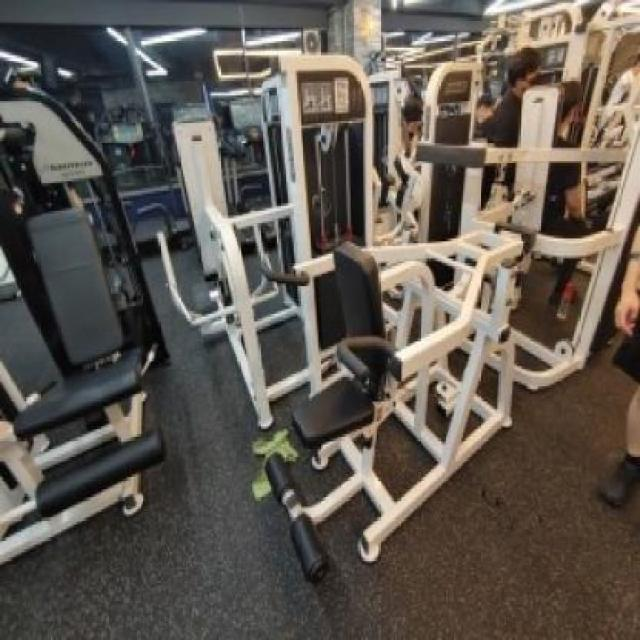seated dip machine: (255, 222, 534, 590)
